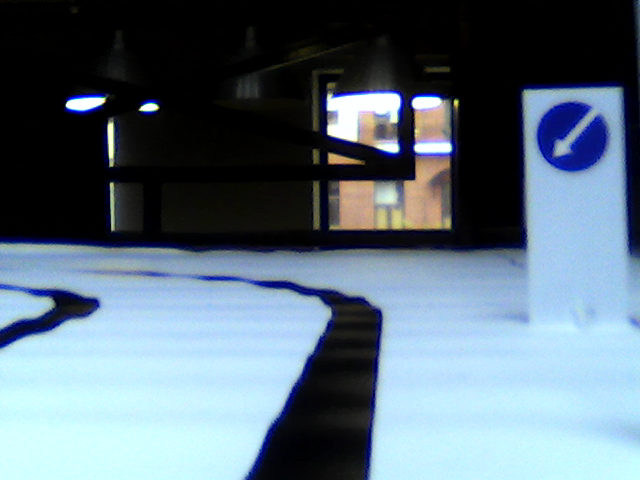prep: (535, 103, 607, 172)
